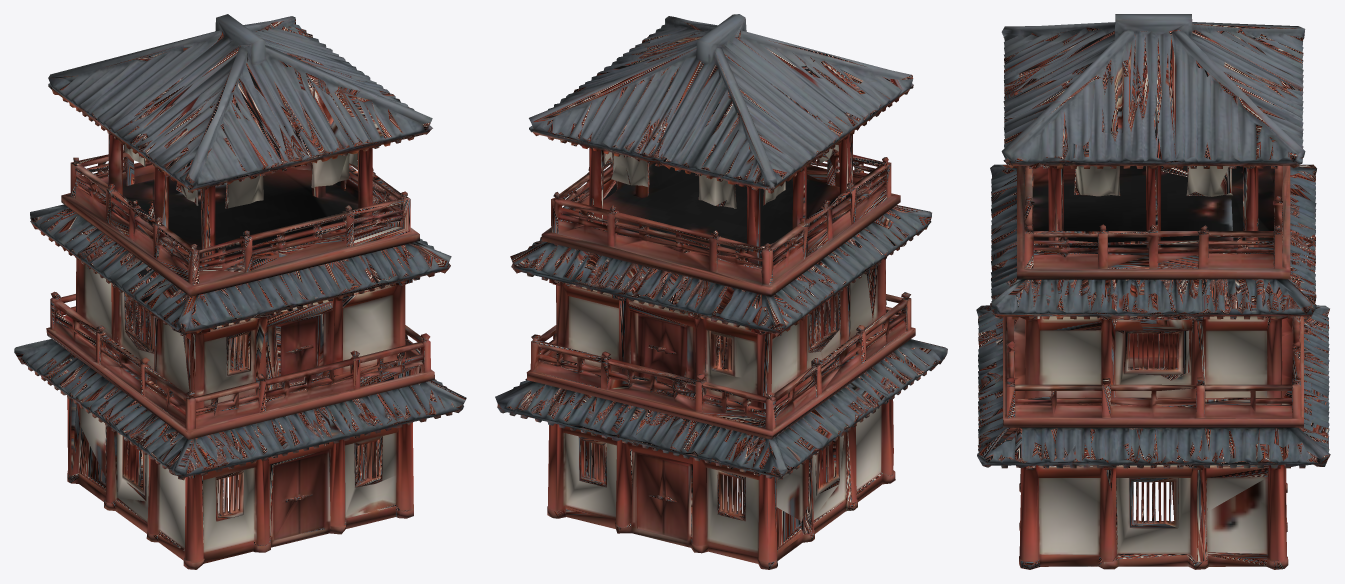
File: wanglou_lod0.glb
3 renders of one model, left to right at view 1: azimuth 30°, elevation 25°; view 2: azimuth 150°, elevation 25°; view 3: azimuth 270°, elevation 25°, orthographic. The views are drawn at different scales.
Parts seen in each view (by area): view 1: node_0; view 2: node_0; view 3: node_0.
Boxes of the visible parts, x1,y1,x2,y2 form: node_0: [14, 14, 466, 569]; node_0: [495, 14, 947, 569]; node_0: [976, 14, 1330, 569].
Size of the model in its own units: 10.43 by 15.99 by 10.35.
1 material, 1 textured.
